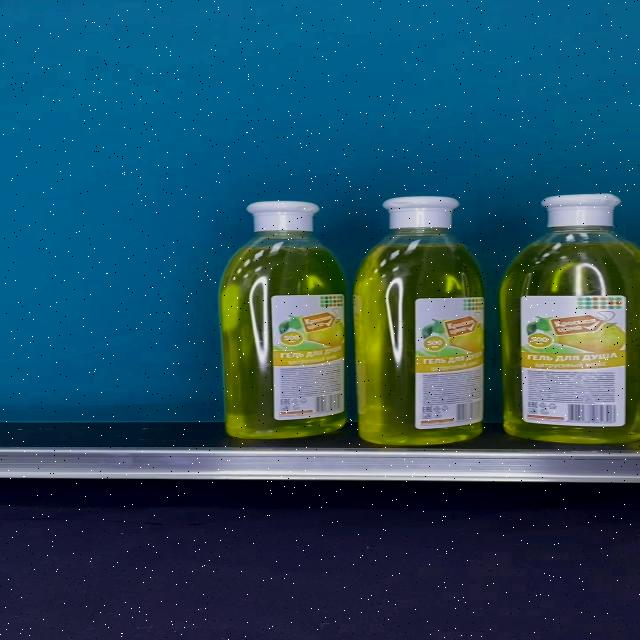Bottle: (500, 192, 640, 444), (354, 196, 484, 445), (220, 200, 346, 439)
Cap: (541, 194, 622, 228), (382, 197, 460, 229), (246, 202, 320, 232)
